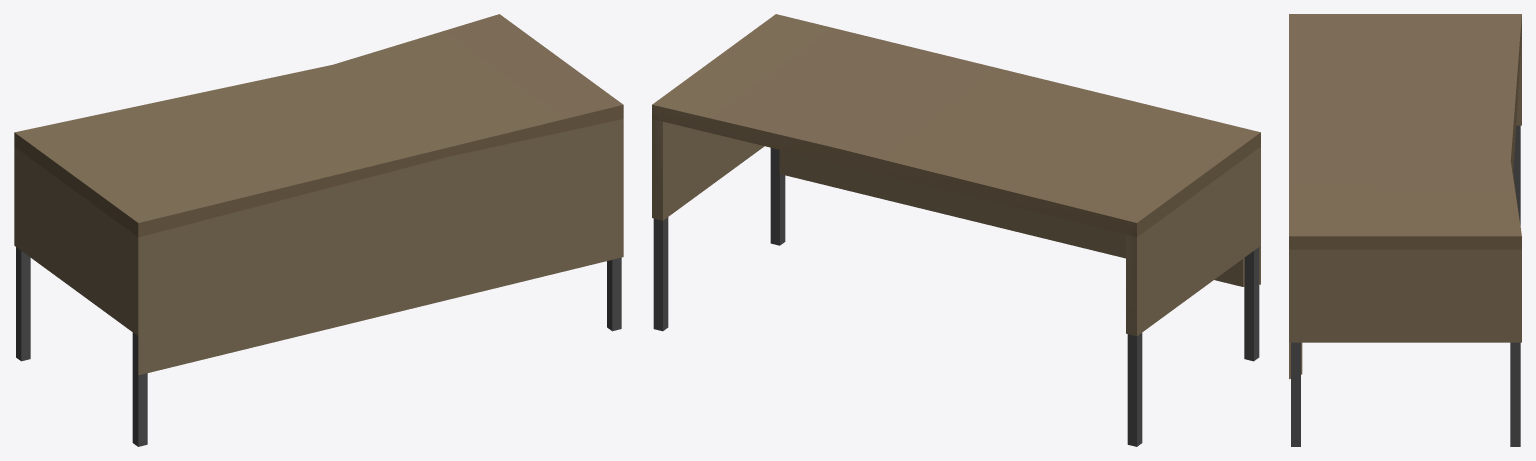
File: Prop_Desk_02.glb
3 views of the same model, side by side, from view 1: azimuth 30°, elevation 25°; view 2: azimuth 150°, elevation 25°; view 3: azimuth 270°, elevation 25° (orthographic). The views are drawn at different scales.
Visible parts, largest first — view 1: SM_Prop_Desk_02; view 2: SM_Prop_Desk_02; view 3: SM_Prop_Desk_02.
Boxes of the visible parts, x1,y1,x2,y2 form: SM_Prop_Desk_02: [14, 14, 623, 446]; SM_Prop_Desk_02: [652, 14, 1260, 446]; SM_Prop_Desk_02: [1289, 14, 1521, 446].
Size of the model in its own units: 1.96 by 0.8667 by 0.8667.
1 material, 1 textured.
